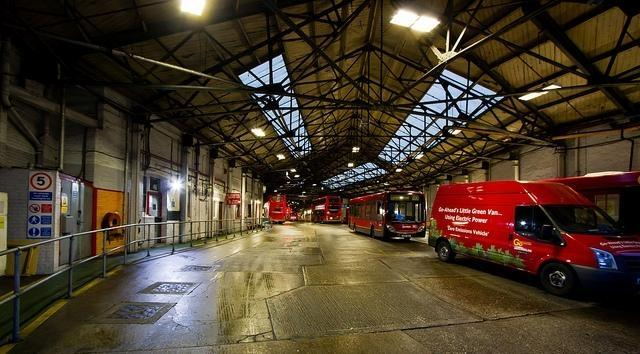bus: (347, 191, 427, 241), (310, 196, 342, 224), (264, 196, 286, 224)
truck: (427, 180, 640, 296)
